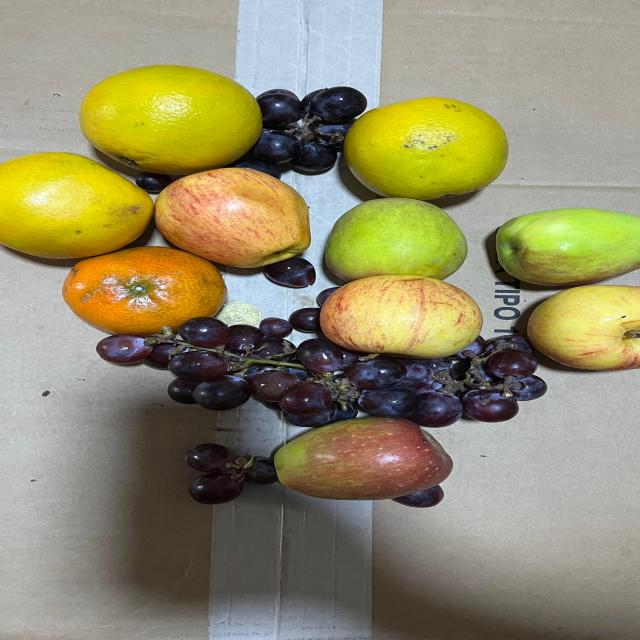moneda: (220, 297, 265, 333)
